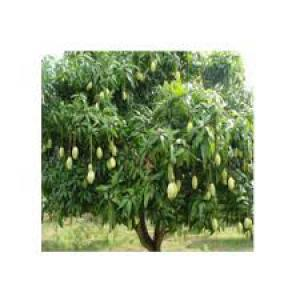Tree: (44, 54, 251, 246)
